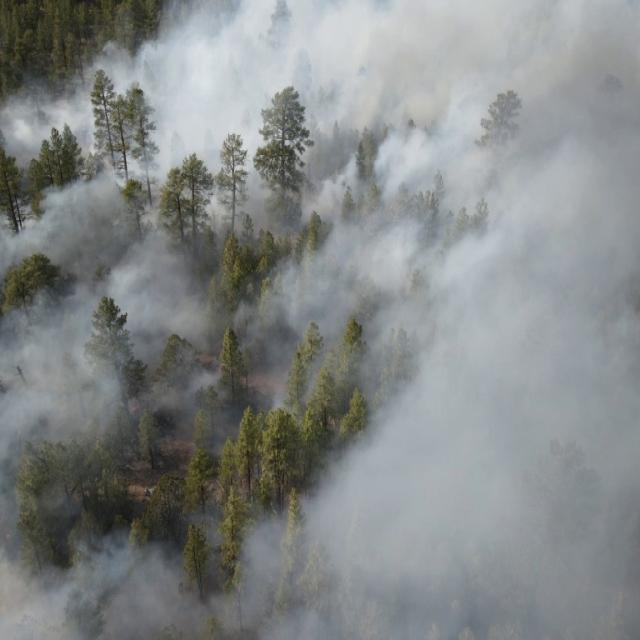smoke: (85, 0, 640, 238), (233, 236, 640, 424), (327, 422, 640, 640), (77, 532, 291, 640), (84, 238, 214, 368), (0, 298, 112, 440), (0, 437, 76, 640), (260, 477, 351, 640), (46, 176, 133, 282), (2, 86, 95, 156), (113, 366, 224, 422), (0, 194, 83, 260)
